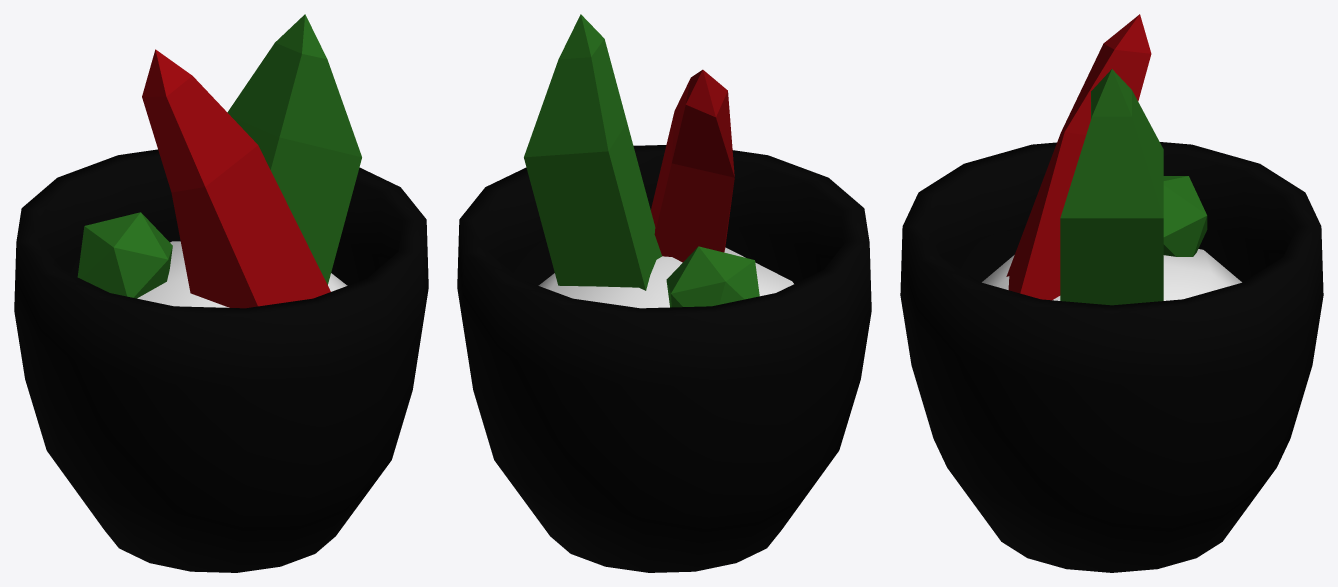
File: SmallGreenPlant.glb
3 views of the same model, side by side, from view 1: azimuth 30°, elevation 25°; view 2: azimuth 150°, elevation 25°; view 3: azimuth 270°, elevation 25° (orthographic).
Parts seen in each view (by area): view 1: SmallGreenPlant; view 2: SmallGreenPlant; view 3: SmallGreenPlant.
Part boxes in pixels (x1,y1,x2,y2): SmallGreenPlant: [14, 14, 428, 572]; SmallGreenPlant: [457, 14, 871, 572]; SmallGreenPlant: [900, 14, 1323, 572].
Bounding box in the file's own units: 0.603 × 0.7933 × 0.603.
